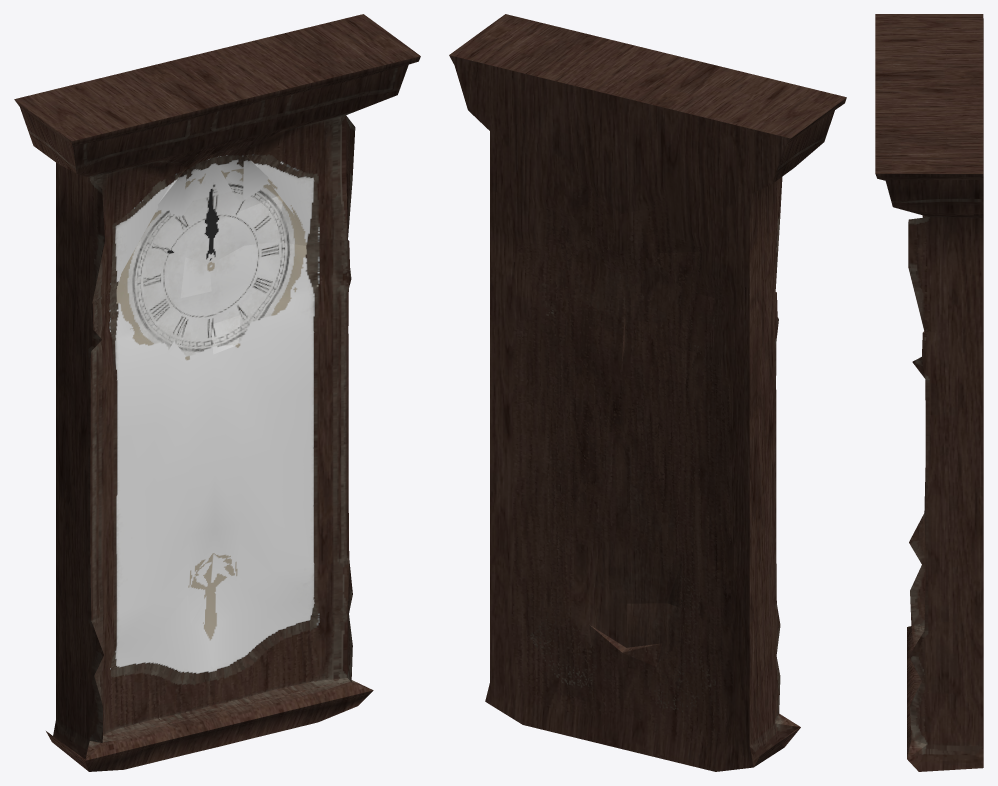
The model's file is pendulum_clock.glb.
3 views of the same model, side by side, from view 1: azimuth 30°, elevation 25°; view 2: azimuth 150°, elevation 25°; view 3: azimuth 270°, elevation 25° (orthographic). The views are drawn at different scales.
Visible parts, largest first — view 1: mesh; view 2: mesh; view 3: mesh.
Boxes of the visible parts, x1,y1,x2,y2 form: mesh: [14, 14, 420, 771]; mesh: [449, 14, 846, 771]; mesh: [875, 14, 983, 771].
Bounding box in the file's own units: 0.3515 × 0.64 × 0.1005.
1 material, 1 textured.
